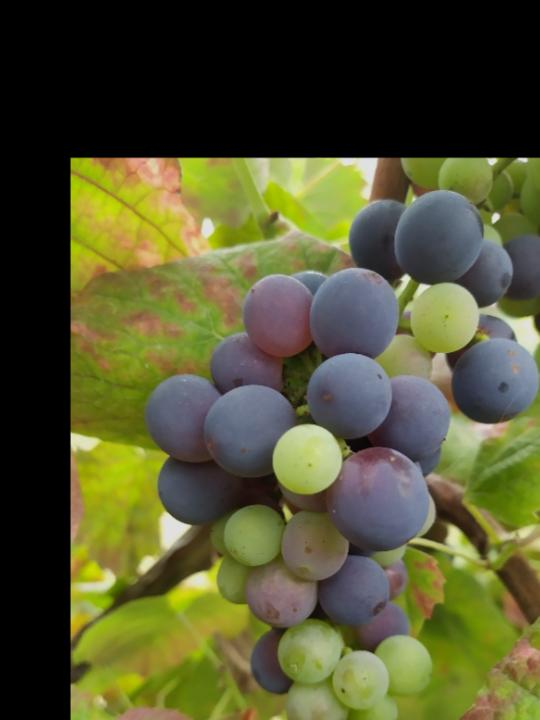grape: (141, 266, 455, 720)
